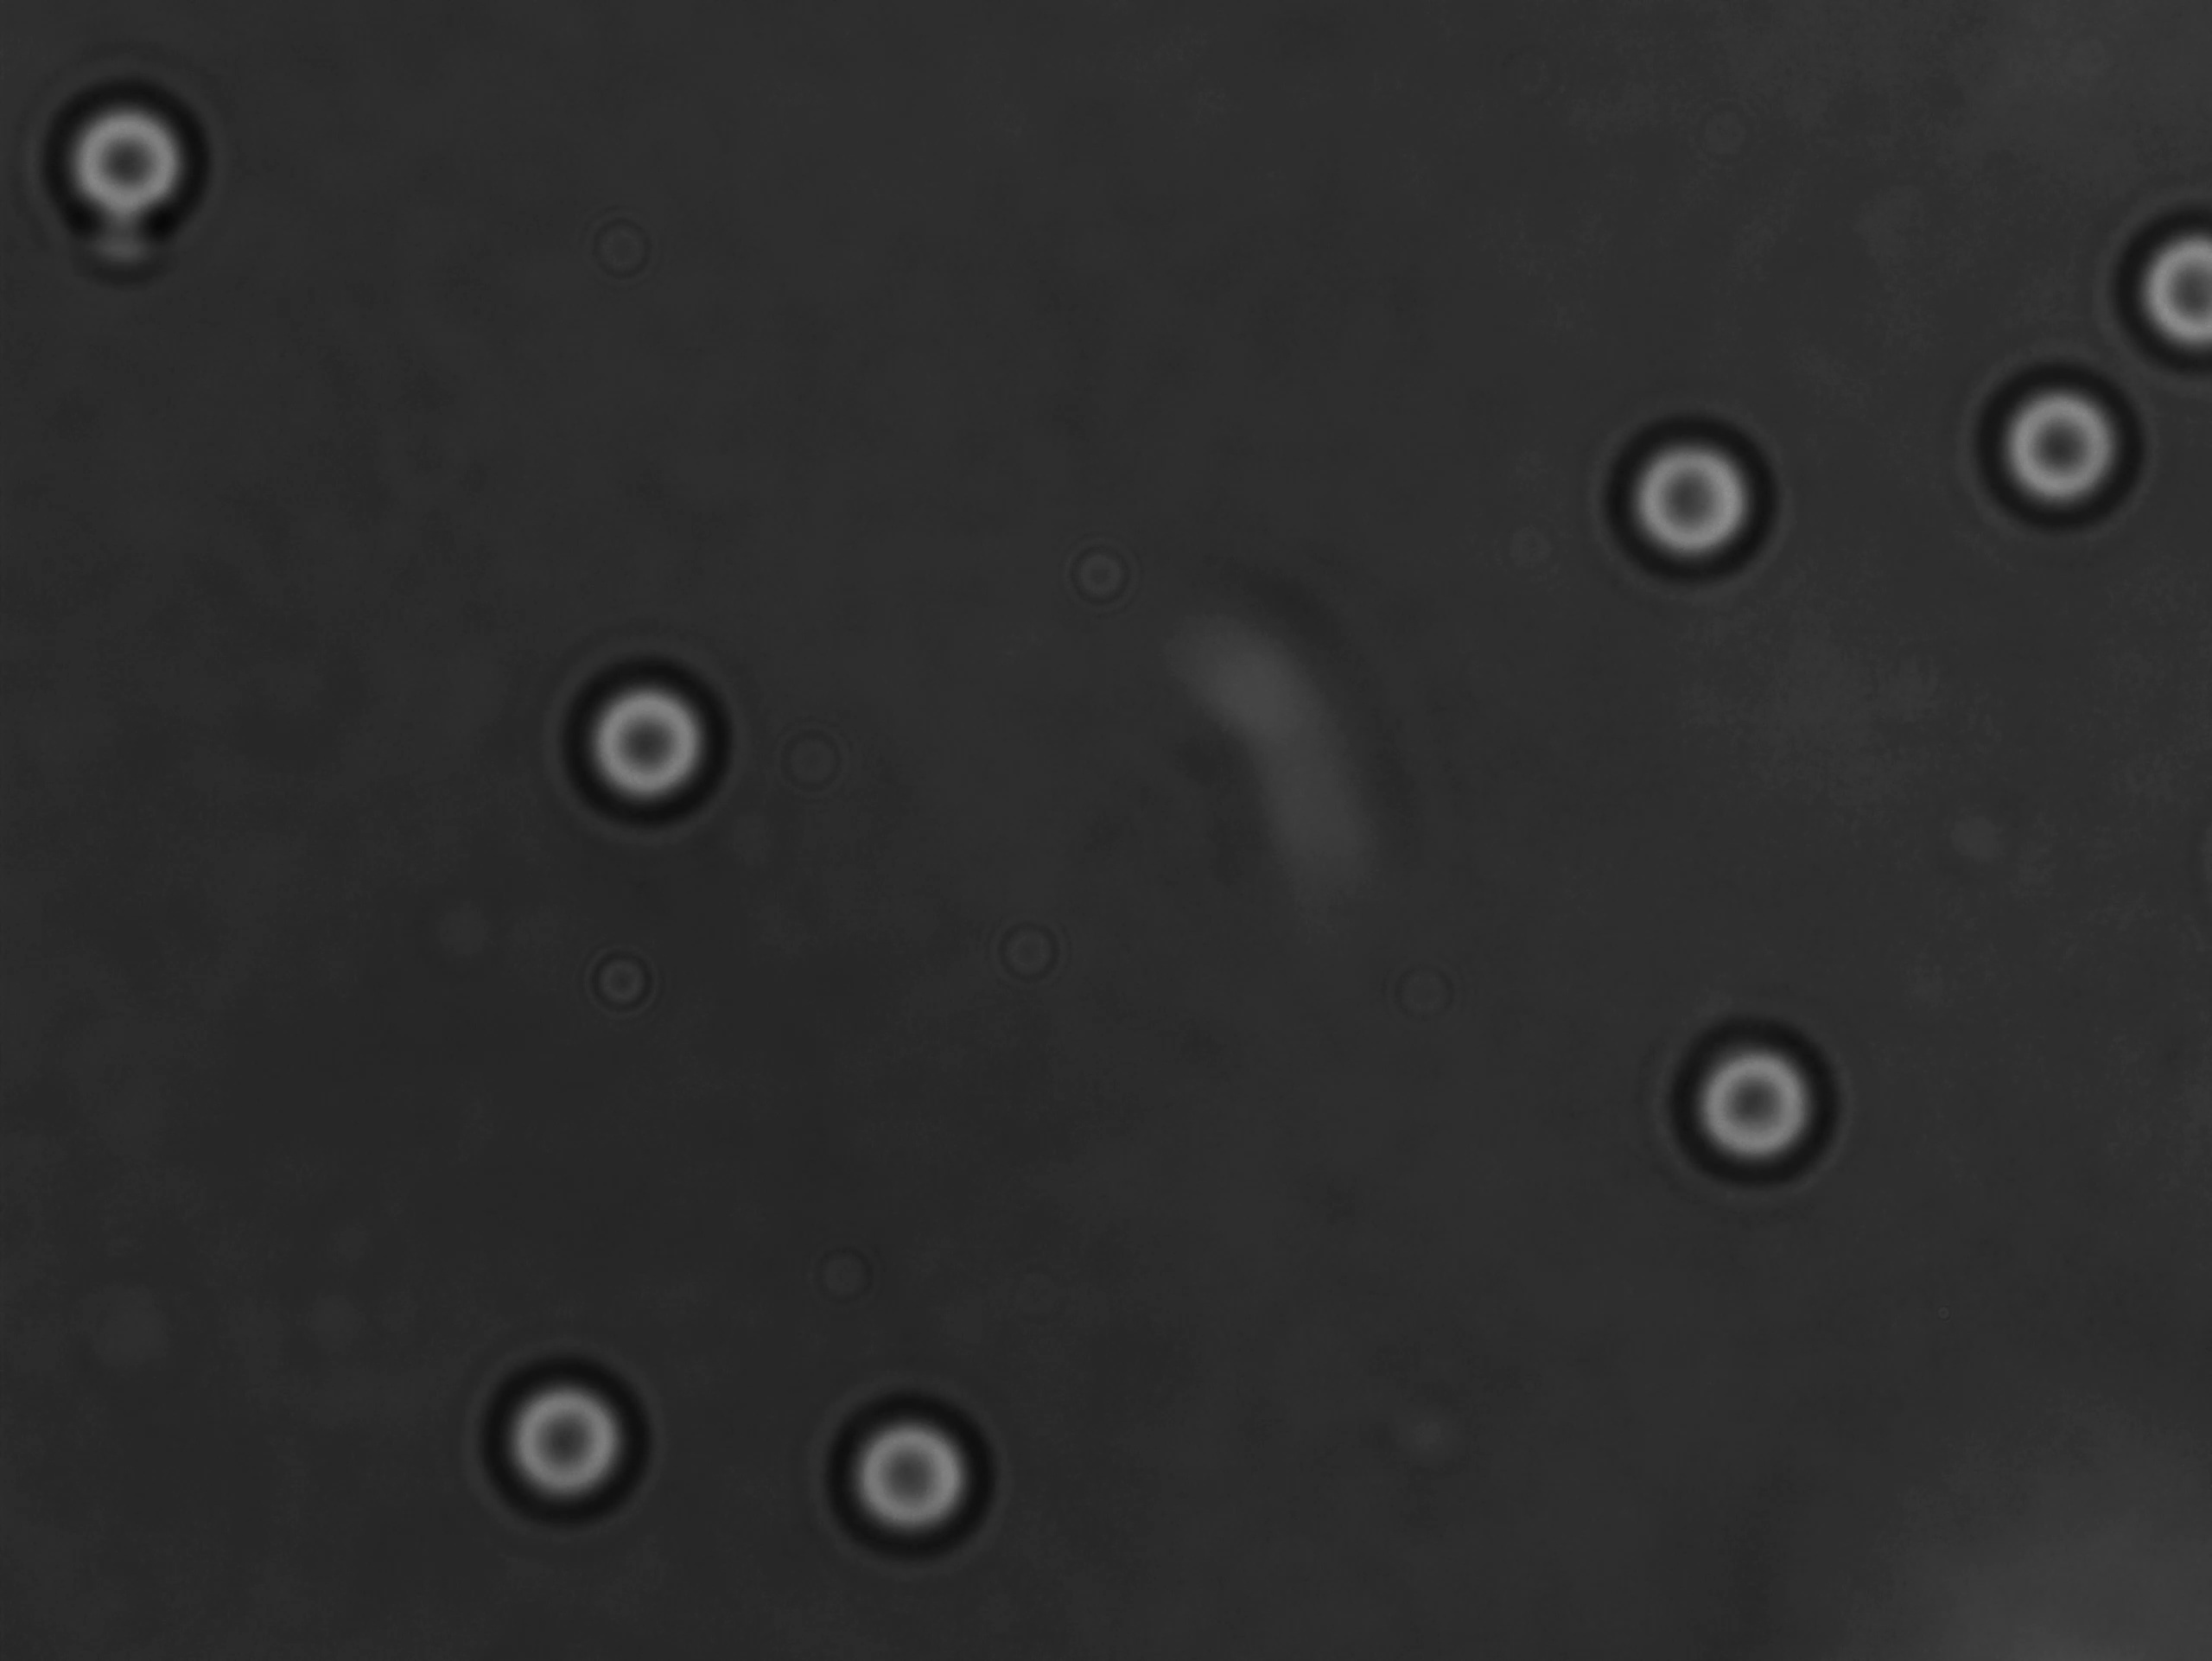depth:60: (1589, 400, 1799, 604), (1652, 998, 1839, 1200), (37, 63, 218, 270), (827, 1375, 1017, 1567), (536, 653, 727, 836), (1990, 358, 2167, 553), (481, 1345, 668, 1525)
